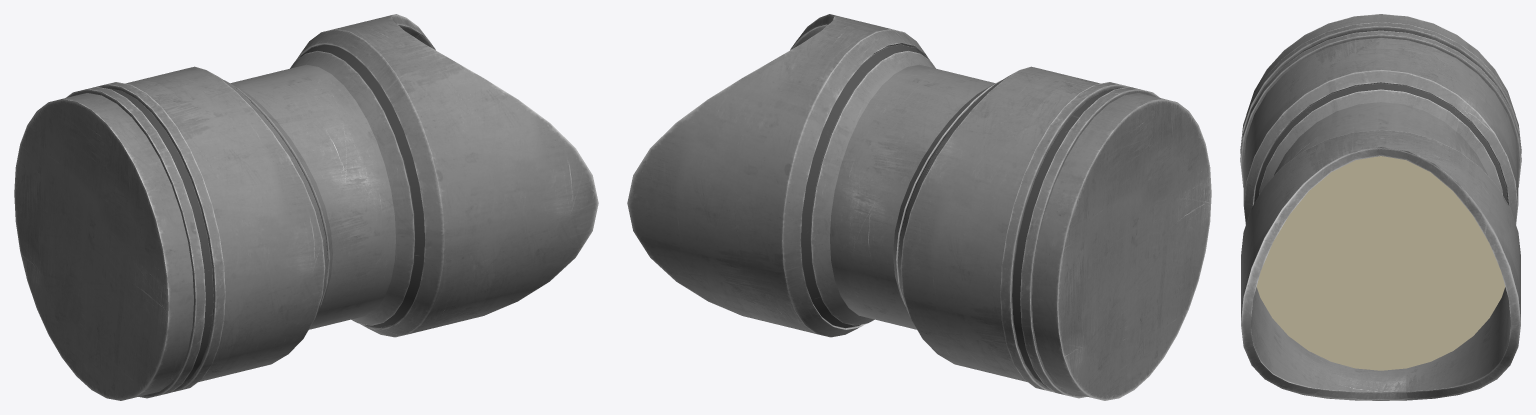
The model's file is guard_5_c_a.glb.
3 views of the same model, side by side, from view 1: azimuth 30°, elevation 25°; view 2: azimuth 150°, elevation 25°; view 3: azimuth 270°, elevation 25° (orthographic). The views are drawn at different scales.
Parts seen in each view (by area): view 1: guard_5_c_a_lod0; view 2: guard_5_c_a_lod0; view 3: guard_5_c_a_lod0.
Part boxes in pixels (left/top/right/bottom): guard_5_c_a_lod0: left=14, top=14, right=598, bottom=400; guard_5_c_a_lod0: left=627, top=14, right=1211, bottom=400; guard_5_c_a_lod0: left=1240, top=14, right=1521, bottom=400.
Size of what is drawn, in the model's own units: 0.0477 by 0.0305 by 0.0305.
1 material, 1 textured.
